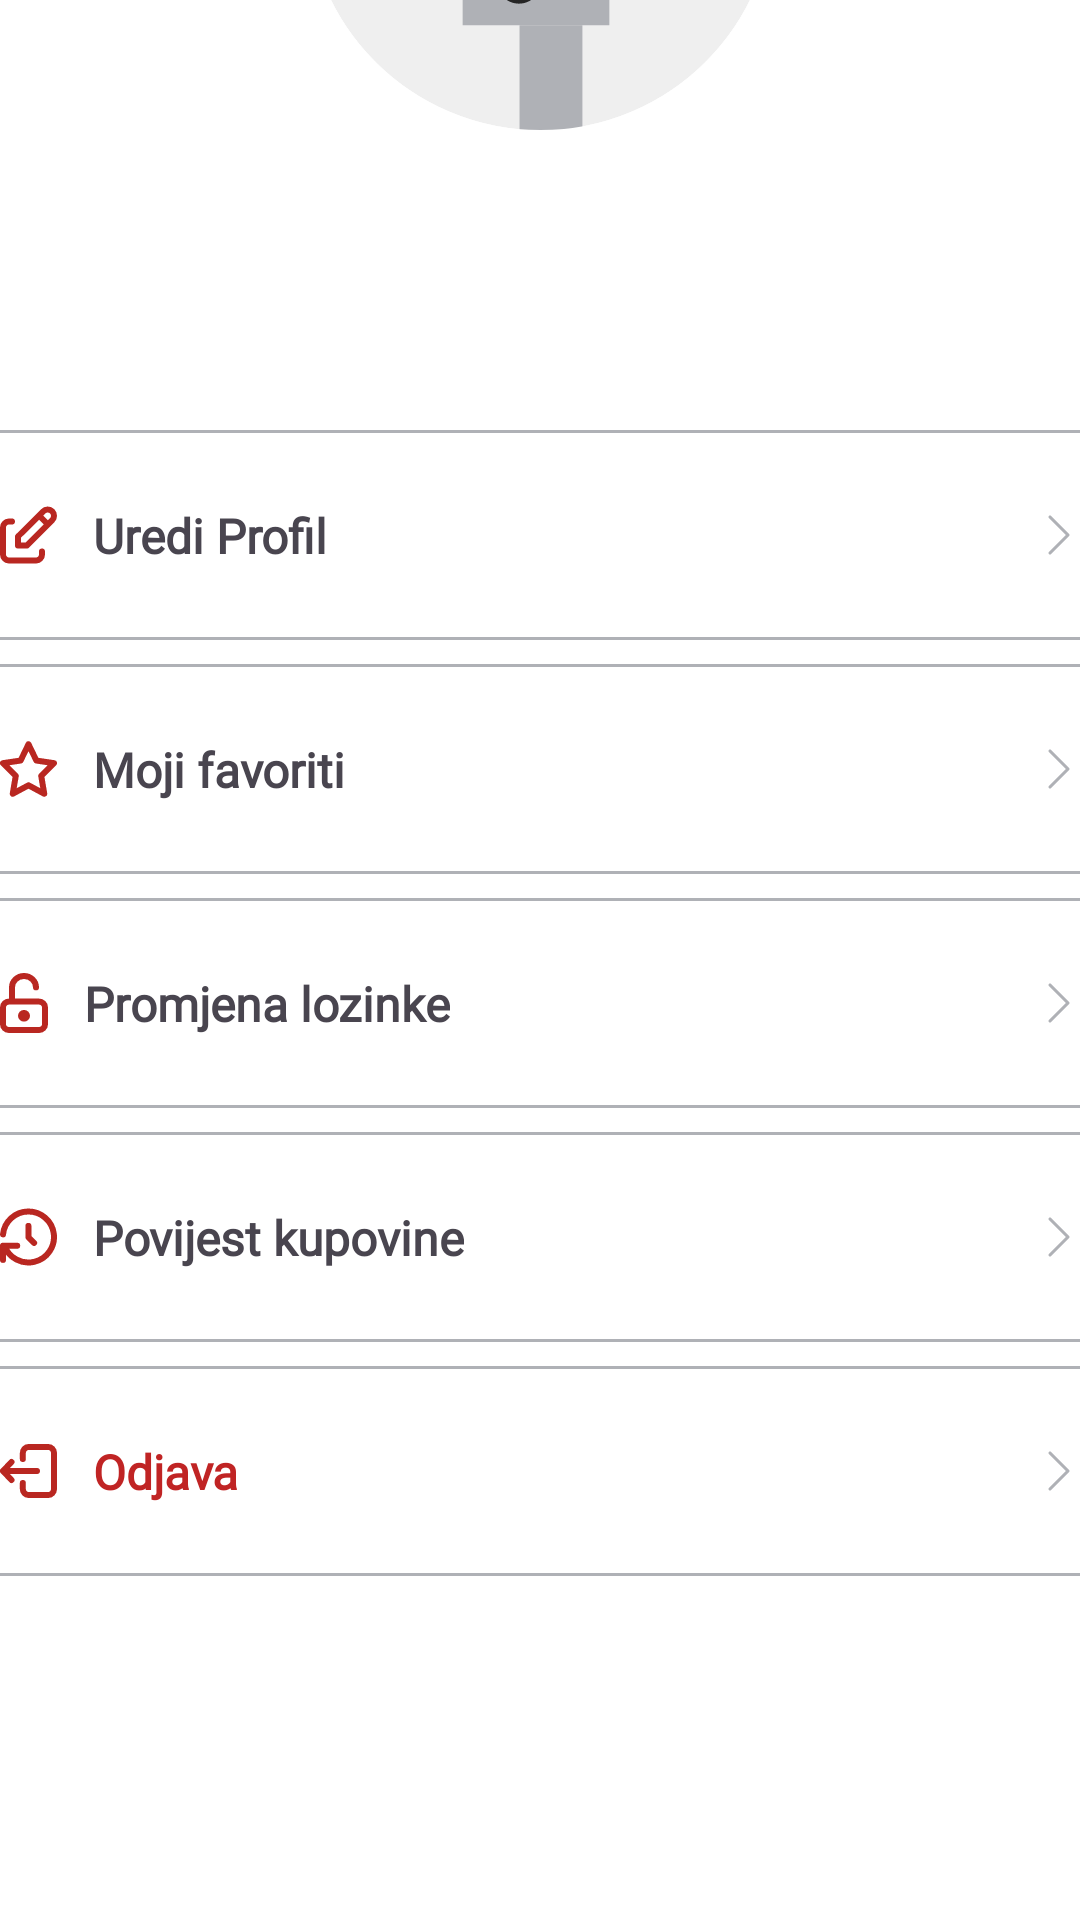

Icon click points for this 1080x1920 phone screenshot, format (x=x, y=y):
edit: (x=28, y=535)
favourites: (x=28, y=769)
forwardarrow: (x=1059, y=535), (x=1059, y=769), (x=1059, y=1003), (x=1059, y=1237), (x=1059, y=1471)
history: (x=28, y=1237)
password: (x=24, y=1003)
